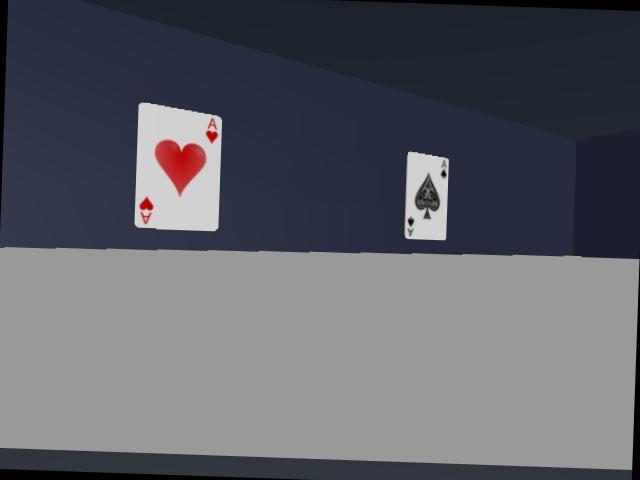heart: (134, 103, 221, 230)
spade: (404, 152, 449, 239)
